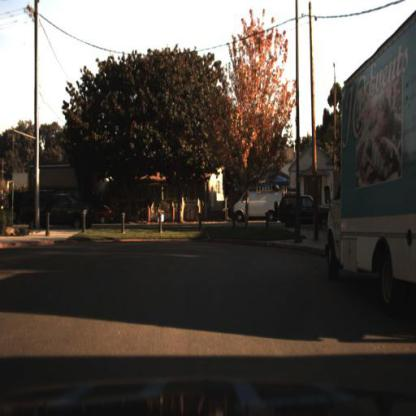car: (29, 189, 104, 238), (227, 183, 295, 230), (275, 194, 326, 236), (91, 201, 120, 232)
truck: (308, 27, 416, 320)
